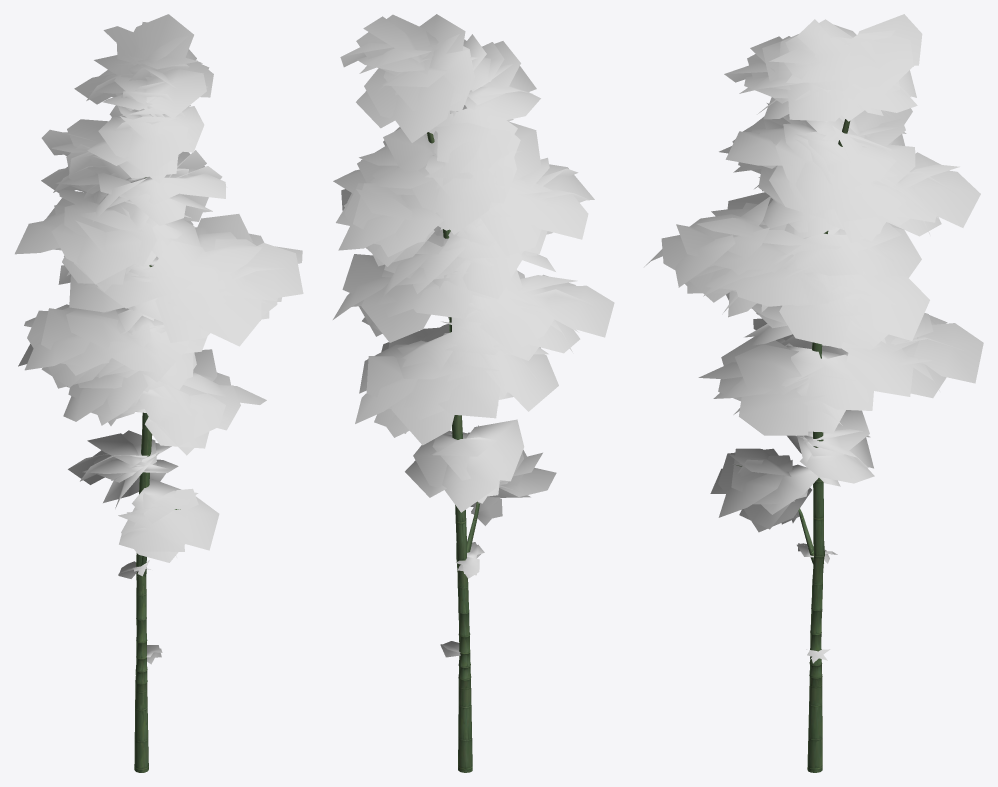
The model's file is SM_EastLands_Bamboo_Tall_01.fbx.
3 views of the same model, side by side, from view 1: azimuth 30°, elevation 25°; view 2: azimuth 150°, elevation 25°; view 3: azimuth 270°, elevation 25° (orthographic). The views are drawn at different scales.
Parts seen in each view (by area): view 1: SM_EastLands_Bamboo_Tall_01_LOD0; view 2: SM_EastLands_Bamboo_Tall_01_LOD0; view 3: SM_EastLands_Bamboo_Tall_01_LOD0.
Boxes of the visible parts, x1=… form: SM_EastLands_Bamboo_Tall_01_LOD0: x1=15, y1=14, x2=303, y2=772; SM_EastLands_Bamboo_Tall_01_LOD0: x1=333, y1=14, x2=614, y2=772; SM_EastLands_Bamboo_Tall_01_LOD0: x1=644, y1=14, x2=983, y2=772.
Bounding box in the file's own units: 858 × 2217 × 894.
